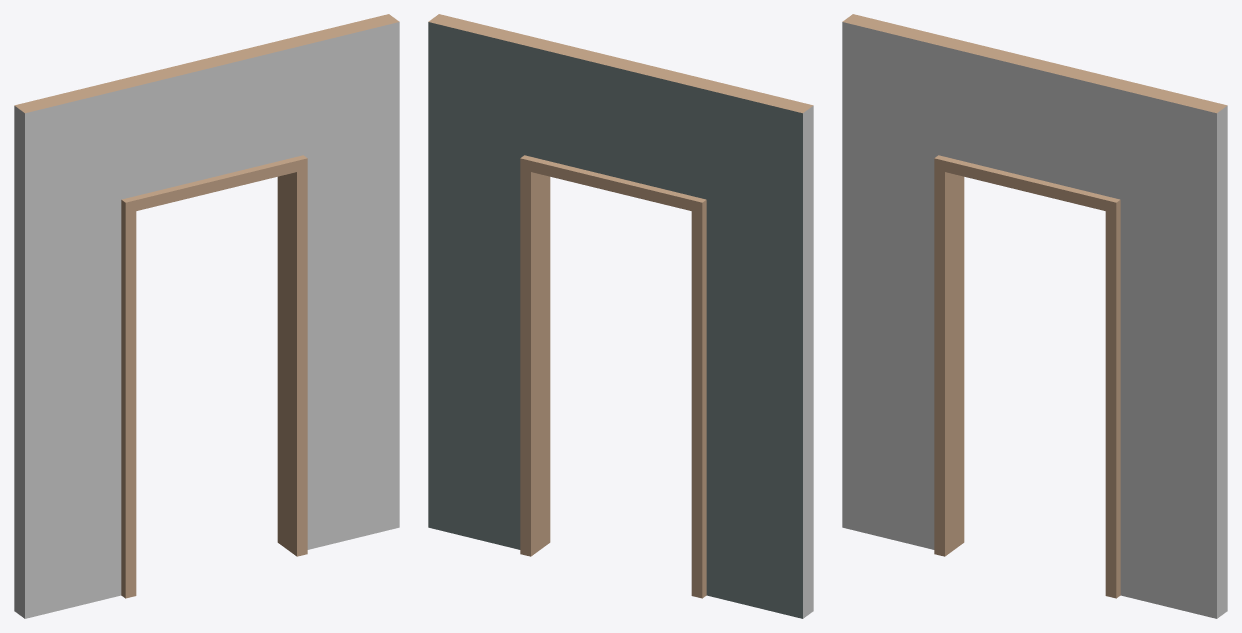
Rendered from wallDoorway.glb.
The picture shows the model from 3 angles, left to right: view 1: azimuth 30°, elevation 25°; view 2: azimuth 150°, elevation 25°; view 3: azimuth 330°, elevation 25°; orthographic projection.
Parts seen in each view (by area): view 1: wallDoorway; view 2: wallDoorway; view 3: wallDoorway.
Part boxes in pixels (x1,y1,x2,y2): wallDoorway: (14,14,399,618); wallDoorway: (428,14,813,618); wallDoorway: (842,14,1227,618).
Bounding box in the file's own units: 1 × 1.29 × 0.0891.
